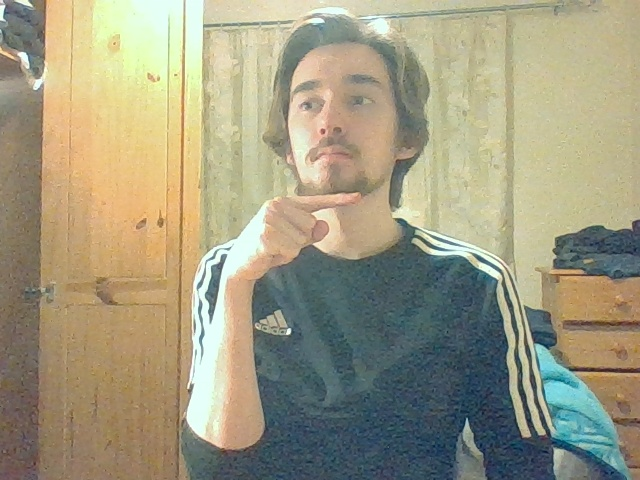son: (251, 191, 361, 262)
